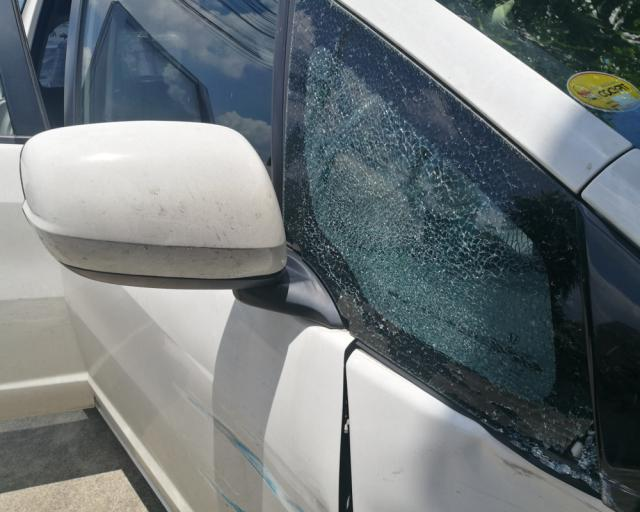glass shatter: (282, 0, 600, 491)
scratch: (166, 352, 333, 512), (501, 453, 610, 512)
